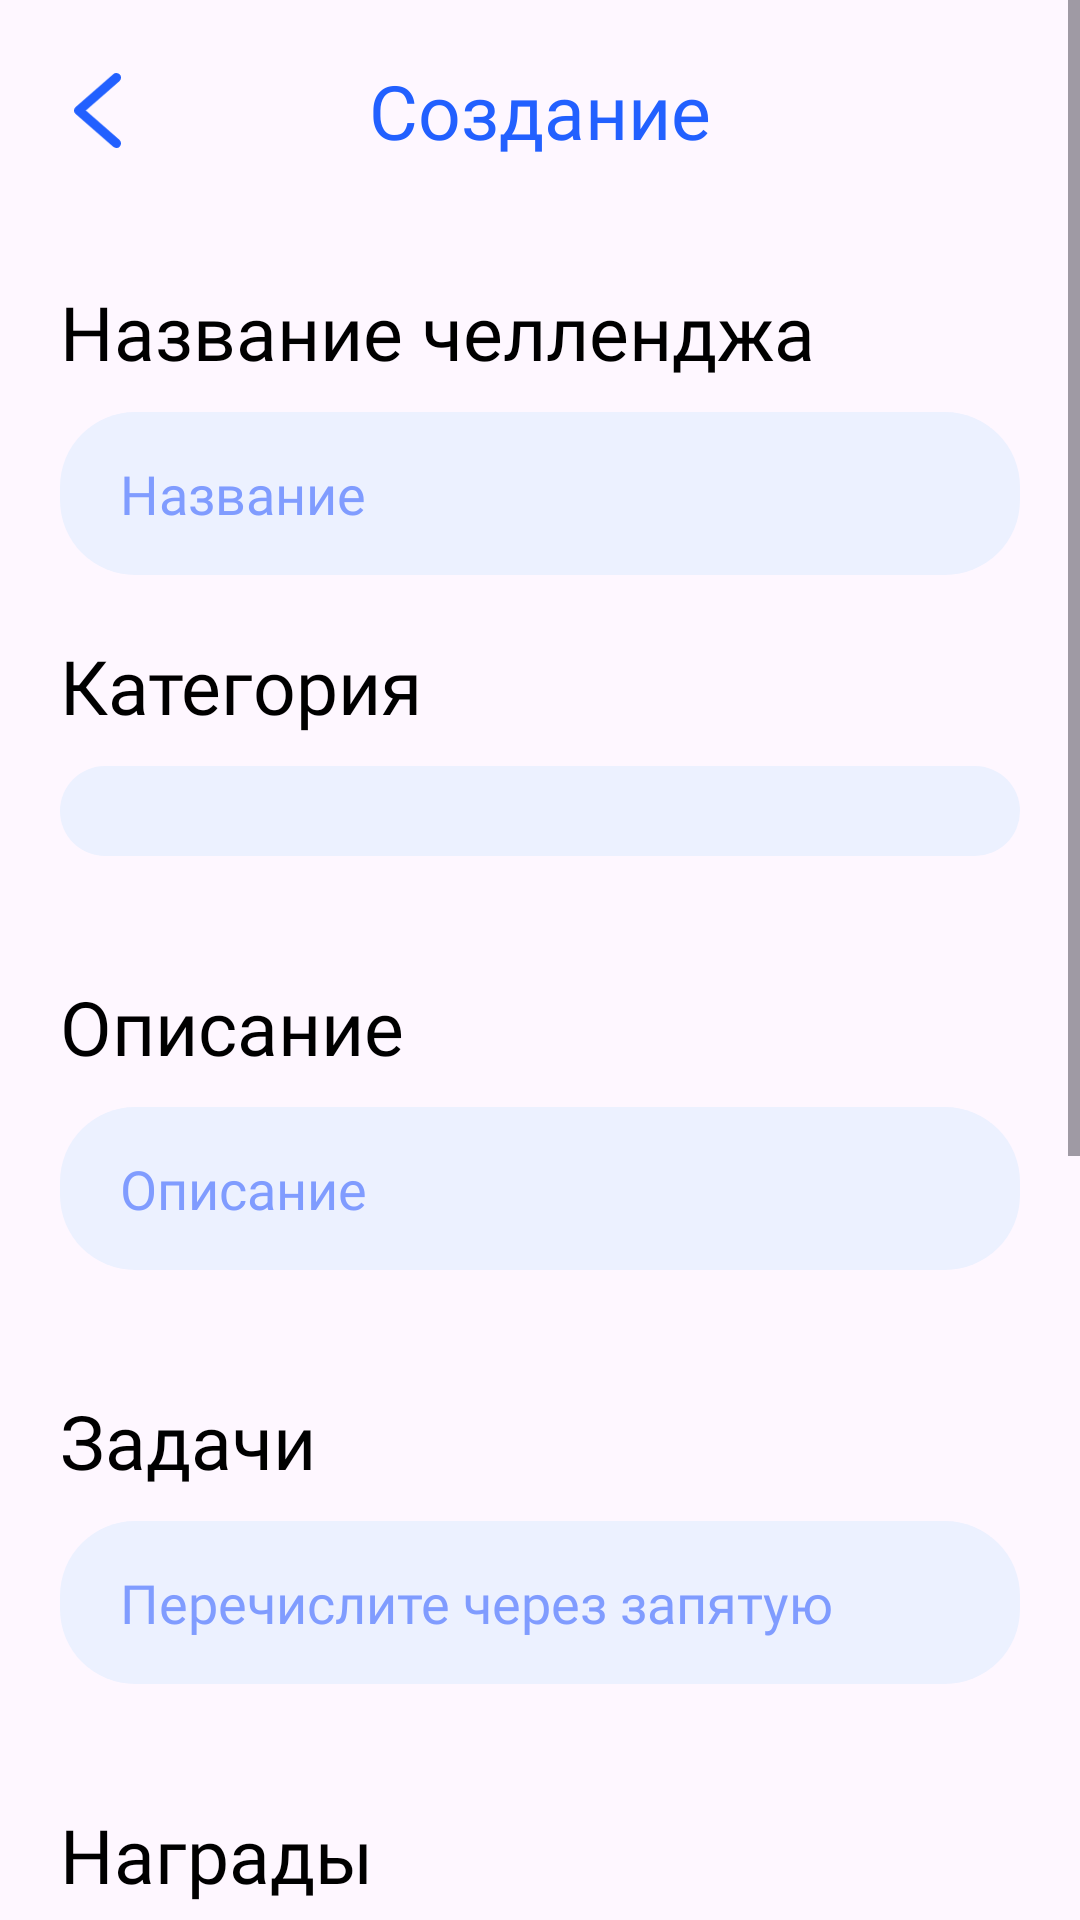

Named icons in this screenshot (1080 x 1920) and their centers, (x=x, y=y):
arrow back: (x=97, y=110)
